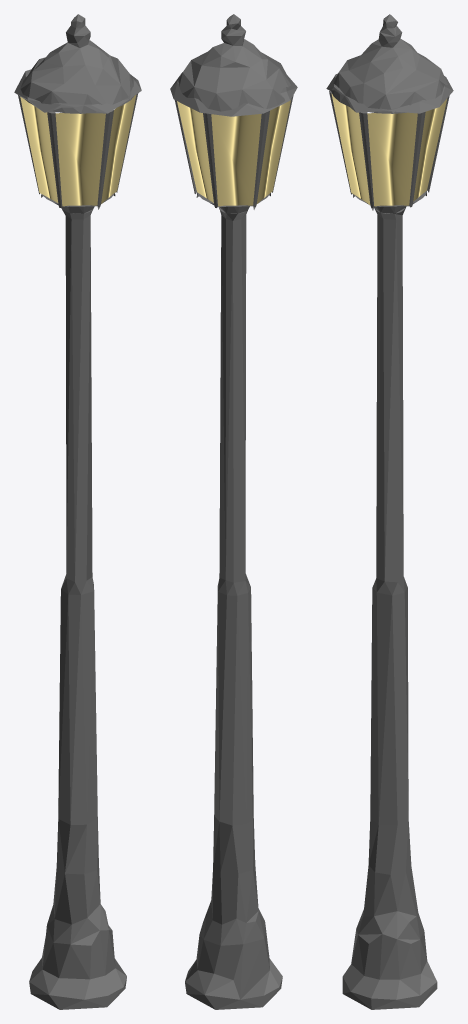
Rendered from streetlamp_new_1.glb.
3 views of the same model, side by side, from view 1: azimuth 30°, elevation 25°; view 2: azimuth 210°, elevation 25°; view 3: azimuth 330°, elevation 25° (orthographic).
Visible parts, largest first — view 1: Model; view 2: Model; view 3: Model.
Part boxes in pixels (left/top/right/bottom): Model: left=14, top=14, right=141, bottom=1009; Model: left=170, top=14, right=297, bottom=1009; Model: left=326, top=14, right=453, bottom=1009.
Bounding box in the file's own units: 0.8443 × 7.36 × 0.8695.
